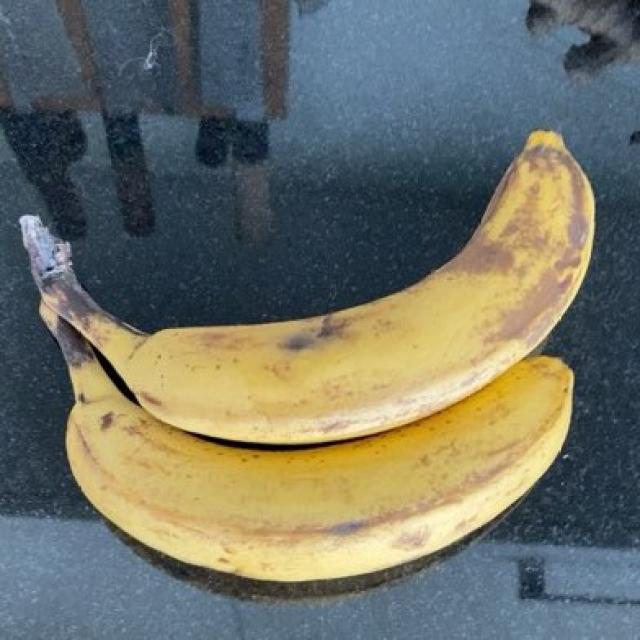banana: (68, 138, 593, 585)
